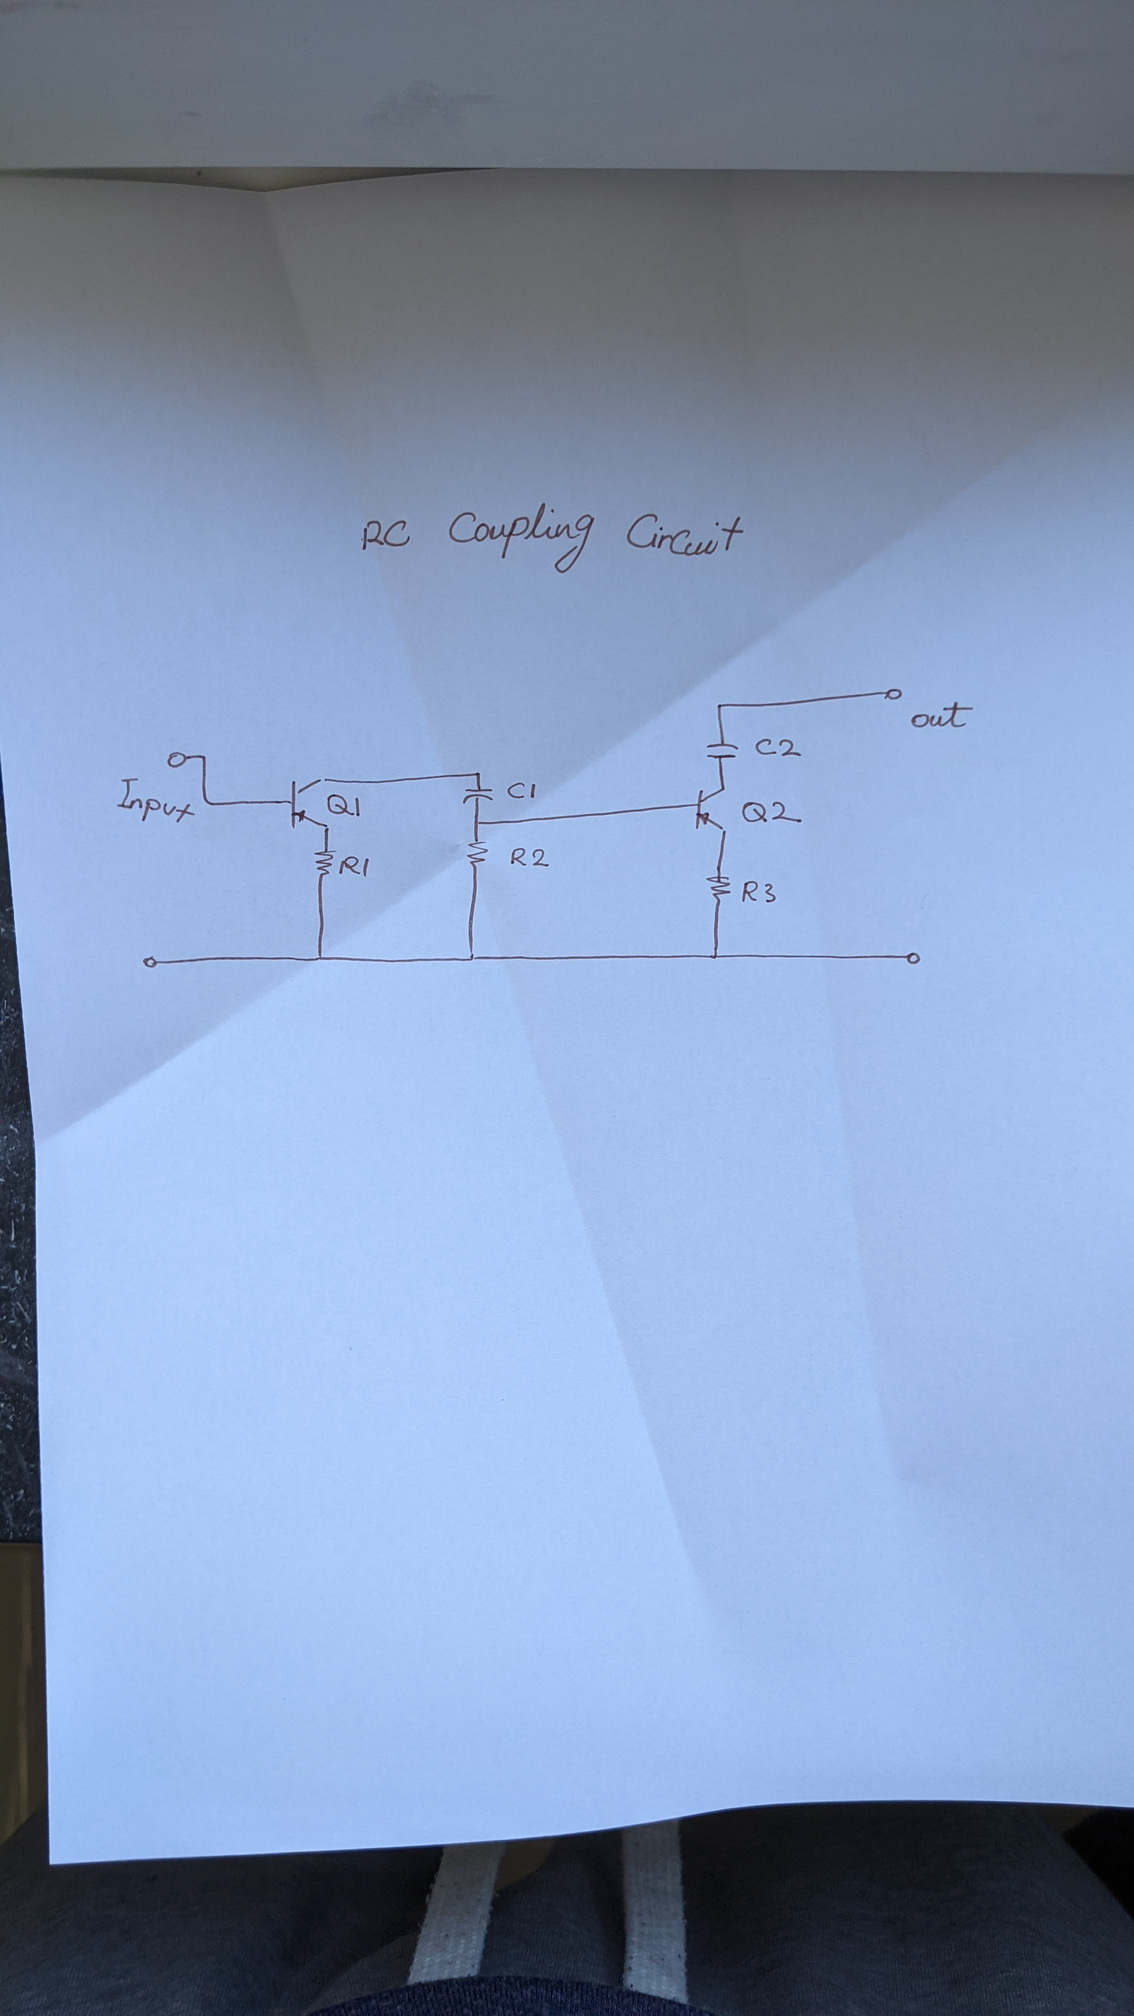capacitor.unpolarized: (703, 739, 744, 762), (462, 784, 497, 806)
junction: (467, 948, 479, 964), (199, 793, 212, 807), (709, 950, 723, 962), (314, 951, 327, 964), (472, 817, 485, 828), (472, 768, 485, 780), (199, 752, 210, 763), (714, 701, 726, 712)
resistor: (705, 874, 732, 906), (312, 847, 338, 881), (467, 836, 489, 870)
terminal: (165, 750, 190, 768), (138, 953, 162, 971), (882, 685, 906, 703), (904, 948, 922, 966)
text: (357, 498, 746, 575), (116, 775, 197, 825), (908, 699, 975, 728), (739, 799, 804, 825), (753, 737, 804, 759), (510, 845, 552, 870), (325, 792, 363, 820), (739, 879, 778, 906), (336, 854, 371, 879), (505, 781, 540, 800)
transistor: (287, 774, 334, 829), (694, 782, 730, 835)
